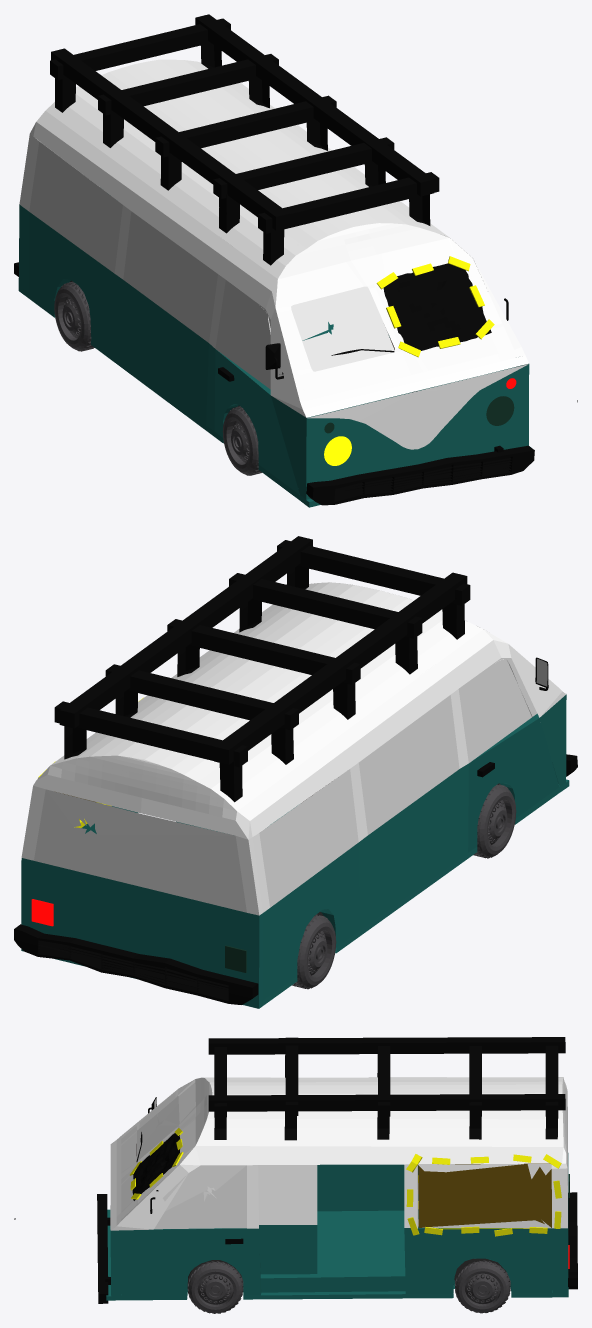
File: Taxi.fbx
The picture shows the model from 3 angles, top to bottom: view 1: azimuth 30°, elevation 25°; view 2: azimuth 150°, elevation 25°; view 3: azimuth 270°, elevation 25°; orthographic projection. The views are drawn at different scales.
Parts seen in each view (by area): view 1: Taxi_Body.001, Cylinder.033, Cylinder.032; view 2: Taxi_Body.001, Cylinder.033, Cylinder.032; view 3: Taxi_Body.001, Door.001, Cylinder.034, Cylinder.031.
Boxes of the visible parts, box(x1,y1,x2,y2) form: Taxi_Body.001: box(14, 14, 577, 507); Cylinder.033: box(54, 281, 94, 351); Cylinder.032: box(222, 406, 262, 475); Taxi_Body.001: box(14, 536, 577, 1008); Cylinder.033: box(292, 914, 336, 989); Cylinder.032: box(473, 784, 516, 858); Taxi_Body.001: box(14, 1037, 577, 1303); Door.001: box(207, 1165, 317, 1274); Cylinder.034: box(187, 1261, 243, 1313); Cylinder.031: box(454, 1260, 510, 1313).
Bounding box in the file's own units: 4750 × 4840 × 12175.
